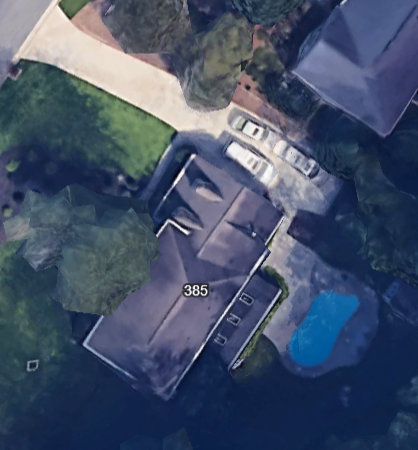driveway: (23, 4, 327, 211)
